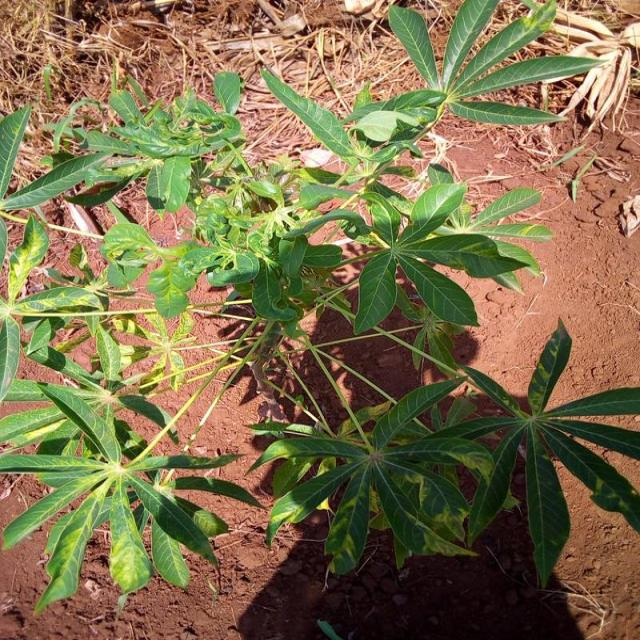cassava leaf: (1, 2, 637, 615)
